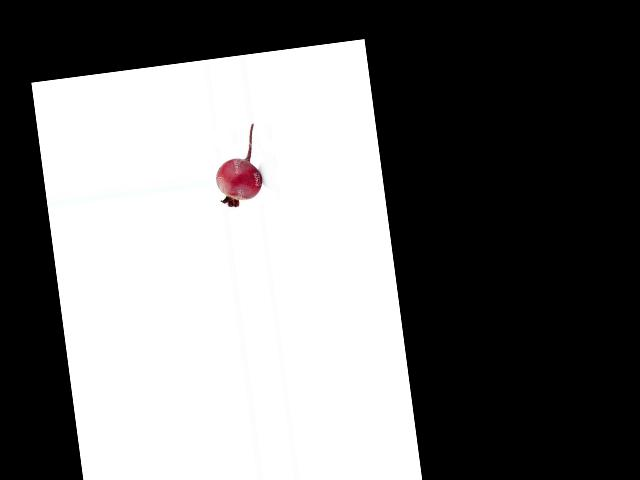beet: (210, 124, 265, 209)
